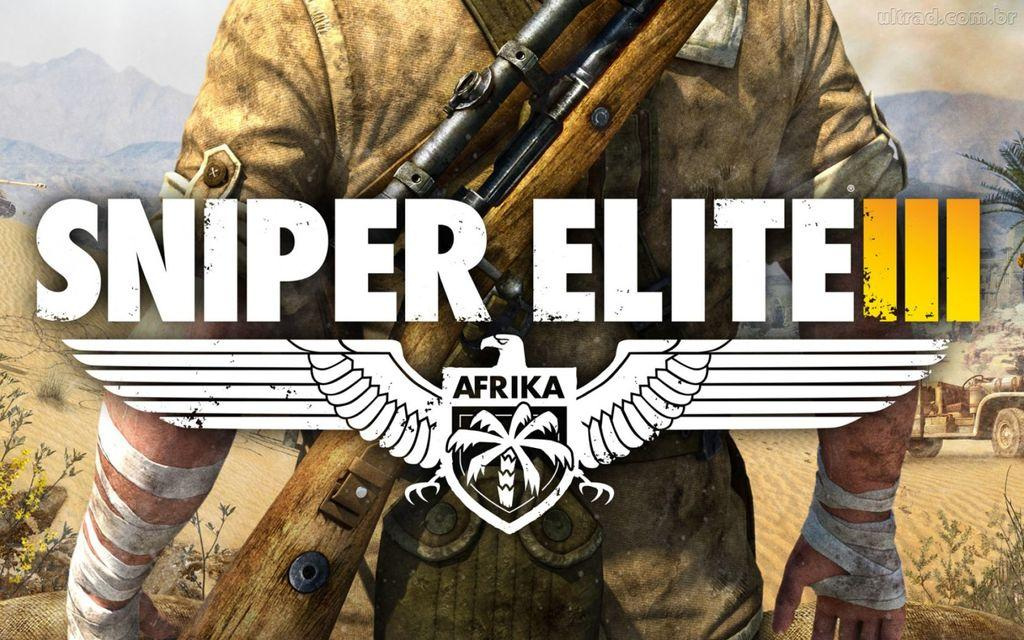Rifle: (175, 0, 718, 639)
